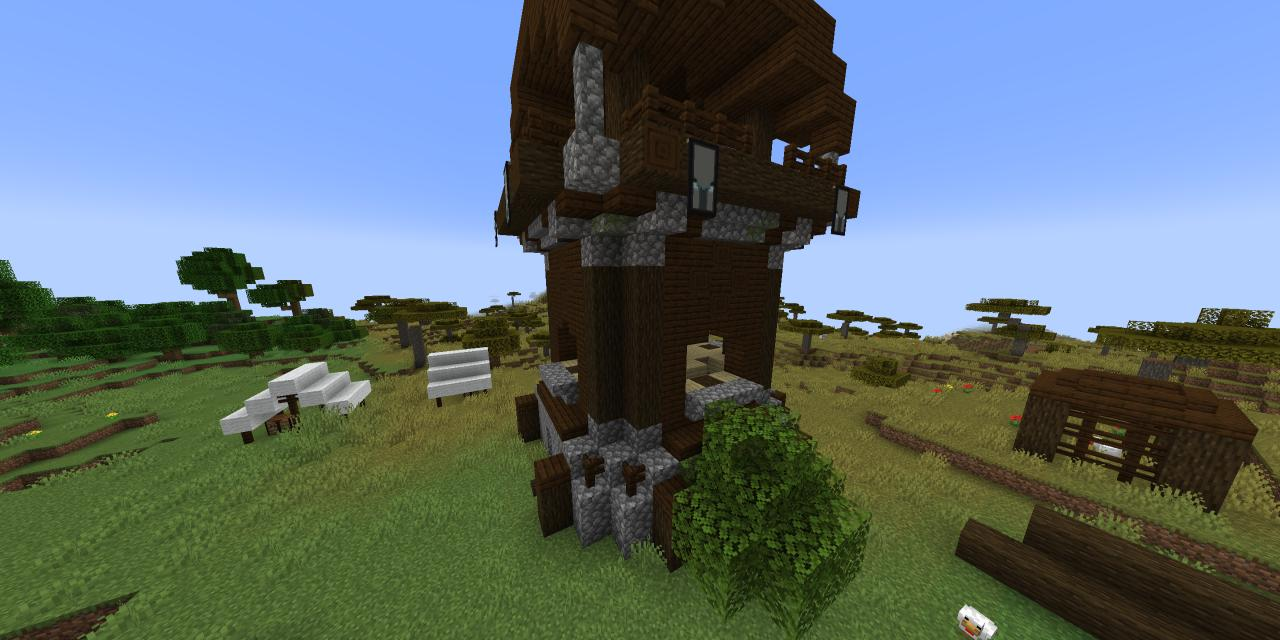pillager outpost: (491, 0, 868, 585)
